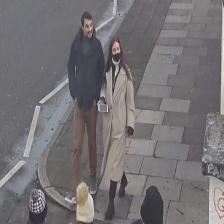person: (64, 10, 105, 202), (98, 37, 135, 219)
